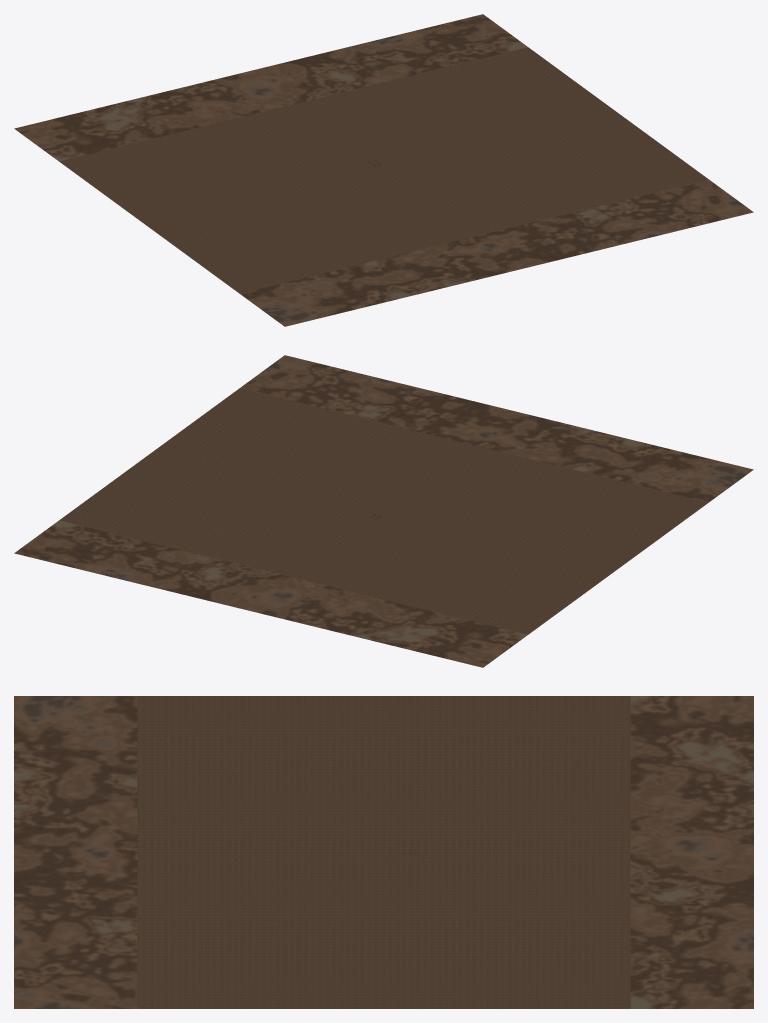
Rendered from LevelY.obj.
The picture shows the model from 3 angles, top to bottom: view 1: azimuth 30°, elevation 25°; view 2: azimuth 150°, elevation 25°; view 3: azimuth 270°, elevation 25°; orthographic projection. The views are drawn at different scales.
Visible parts, largest first — view 1: Plane; view 2: Plane; view 3: Plane.
Part boxes in pixels (box(x1,y1,x2,y2)): Plane: box(14, 14, 753, 326); Plane: box(14, 355, 753, 667); Plane: box(14, 696, 753, 1008).
Size of the model in its own units: 469 by 0.9354 by 469.
Materials: 3 (3 with a texture image).
